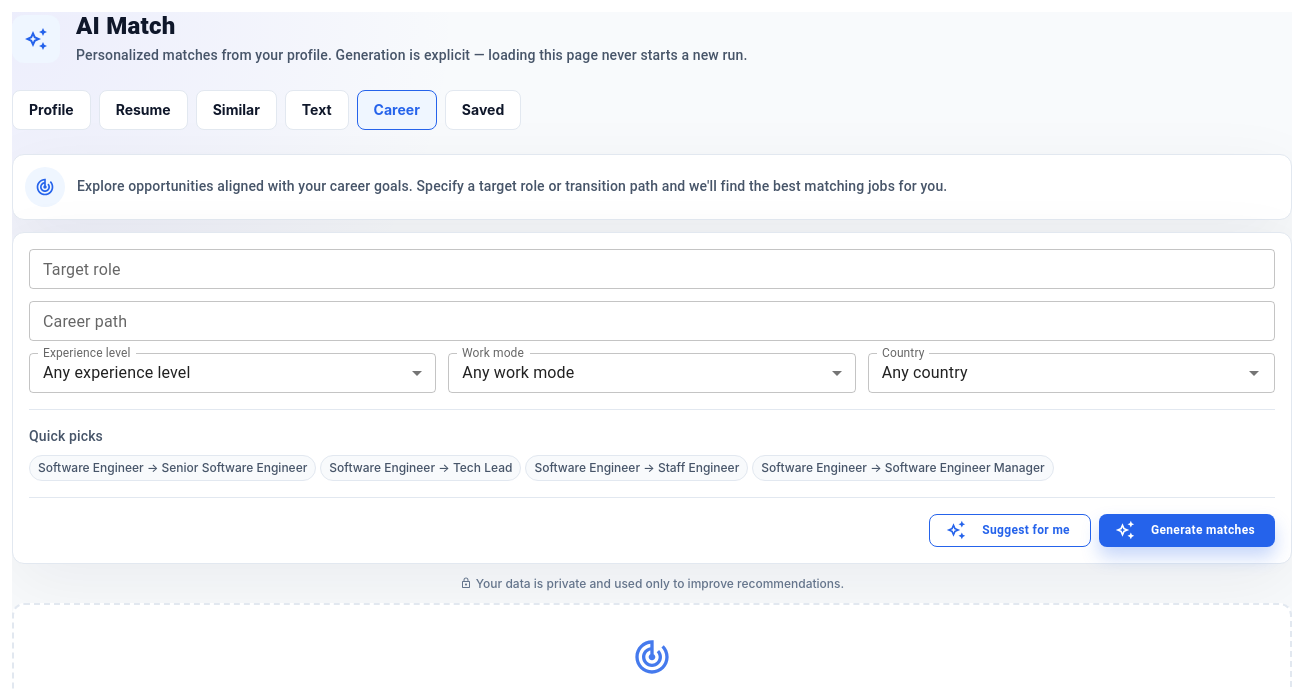
Scenario: AiMatchPage › fills the career path field when a popular path is clicked
Expected: the heading "Quick picks" is shown, x1=29 y1=426 x2=103 y2=447
Click the button "Software Engineer → Senior Software Engineer": (173, 468) x1=29 y1=455 x2=316 y2=481
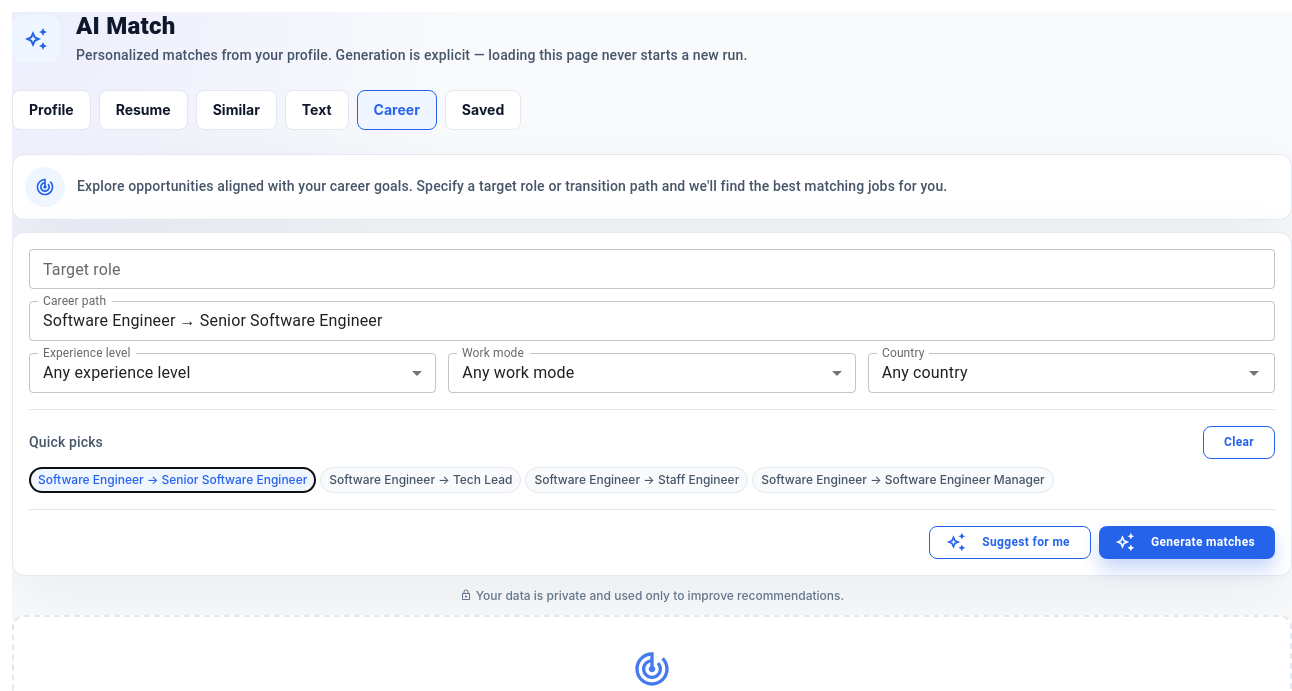
Now the field labelled "Career path" holds "Software Engineer → Senior Software Engineer", box x1=29 y1=301 x2=1275 y2=341
Now the button "Clear" is shown, box x1=1203 y1=426 x2=1275 y2=459
